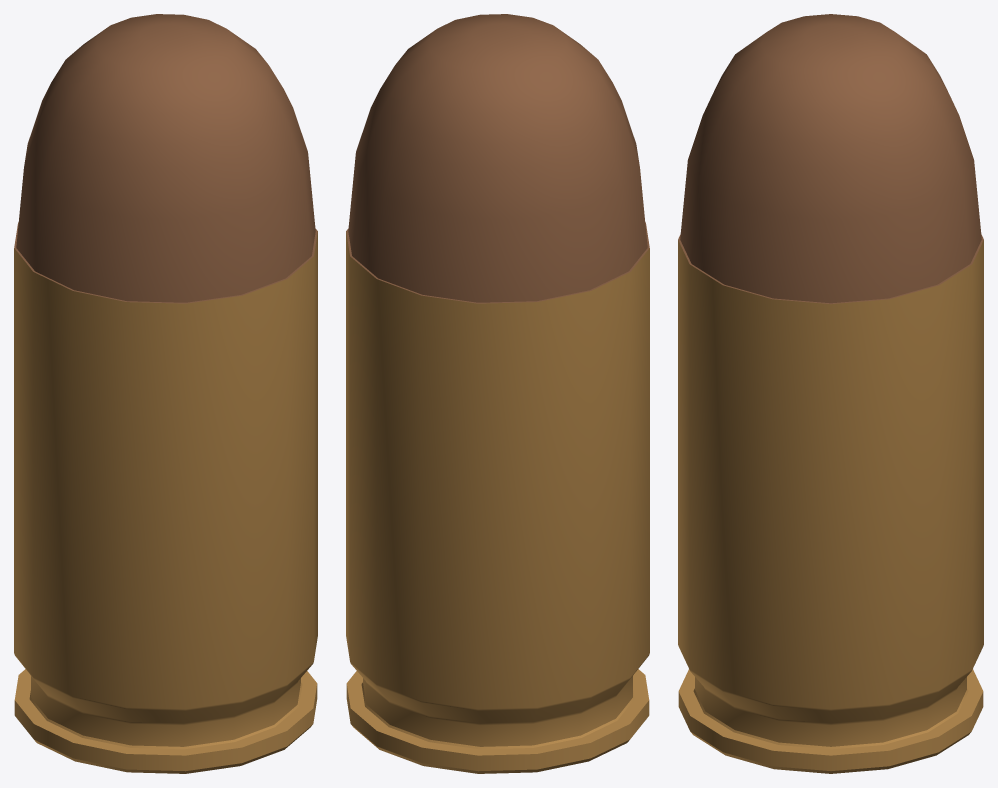
File: 9mmAmo.fbx
The picture shows the model from 3 angles, left to right: view 1: azimuth 30°, elevation 25°; view 2: azimuth 150°, elevation 25°; view 3: azimuth 270°, elevation 25°; orthographic projection.
Visible parts, largest first — view 1: 9mm; view 2: 9mm; view 3: 9mm.
Part boxes in pixels (x1,y1,x2,y2): 9mm: [14, 14, 317, 773]; 9mm: [346, 14, 649, 773]; 9mm: [678, 14, 983, 773].
Size of the model in its own units: 8.43 by 20.54 by 8.43.
